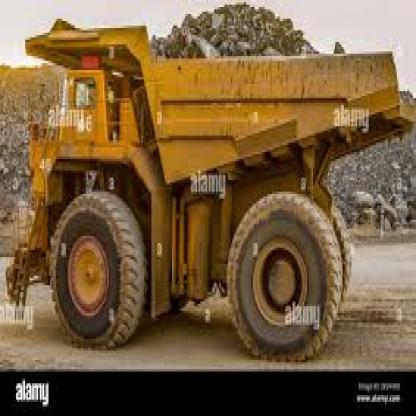dump_truck: (15, 7, 413, 362)
